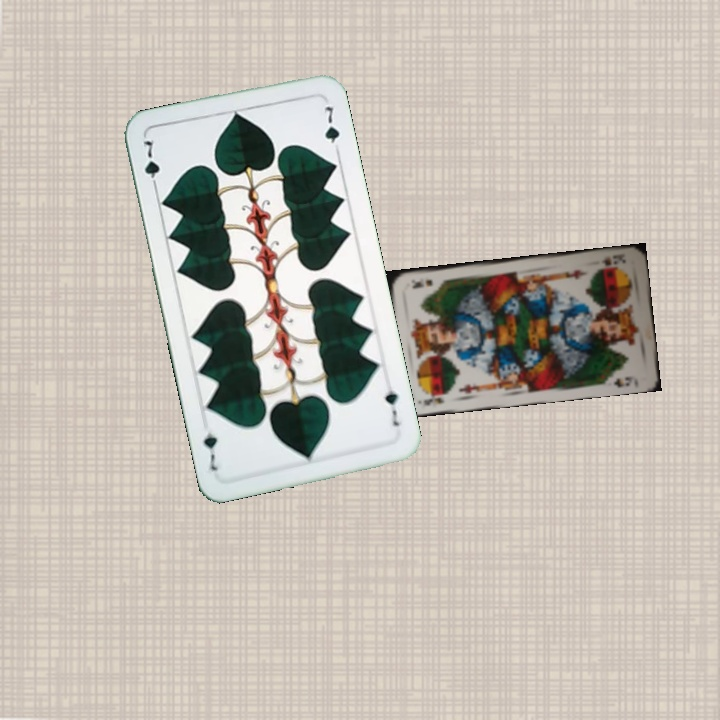G7: (139, 135, 162, 193), (381, 386, 402, 429)
SK: (597, 249, 629, 269), (419, 389, 451, 408)
